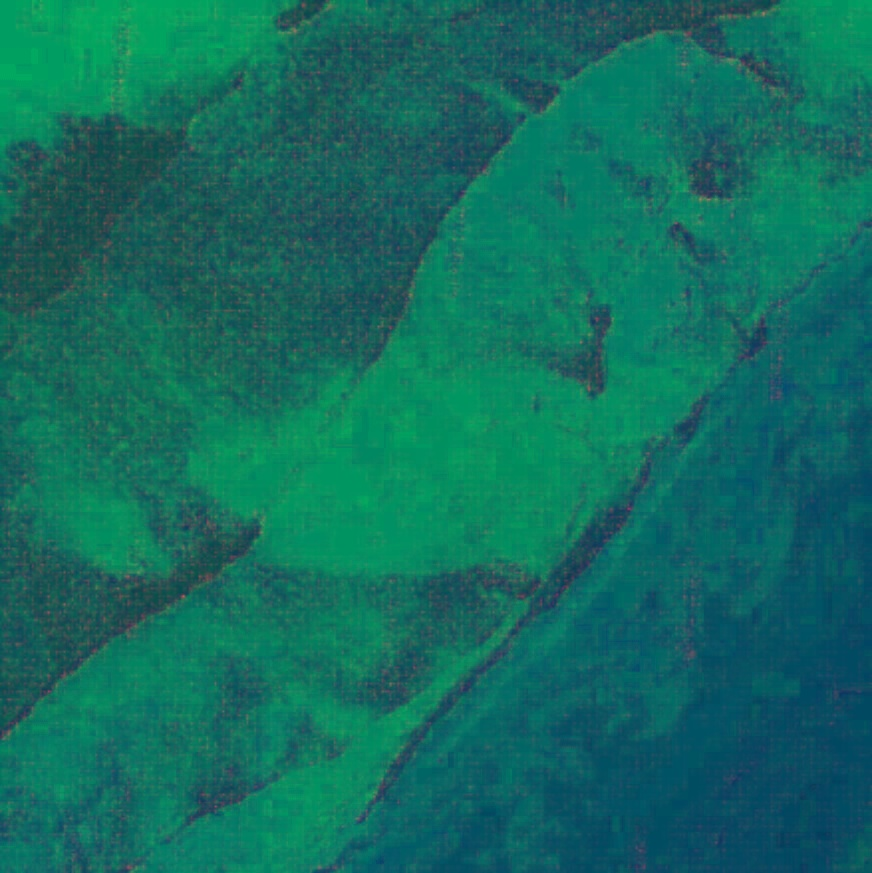rip_current: (117, 326, 632, 638)
